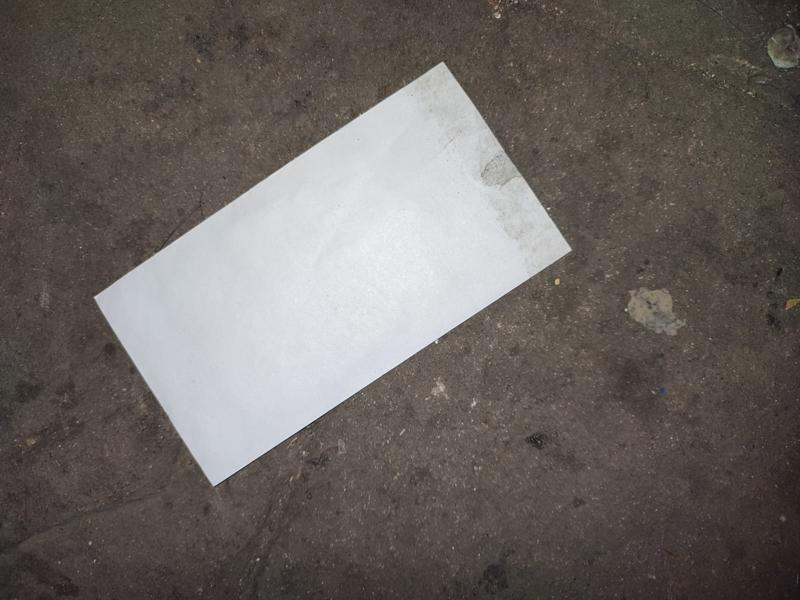papel: (93, 63, 572, 488)
